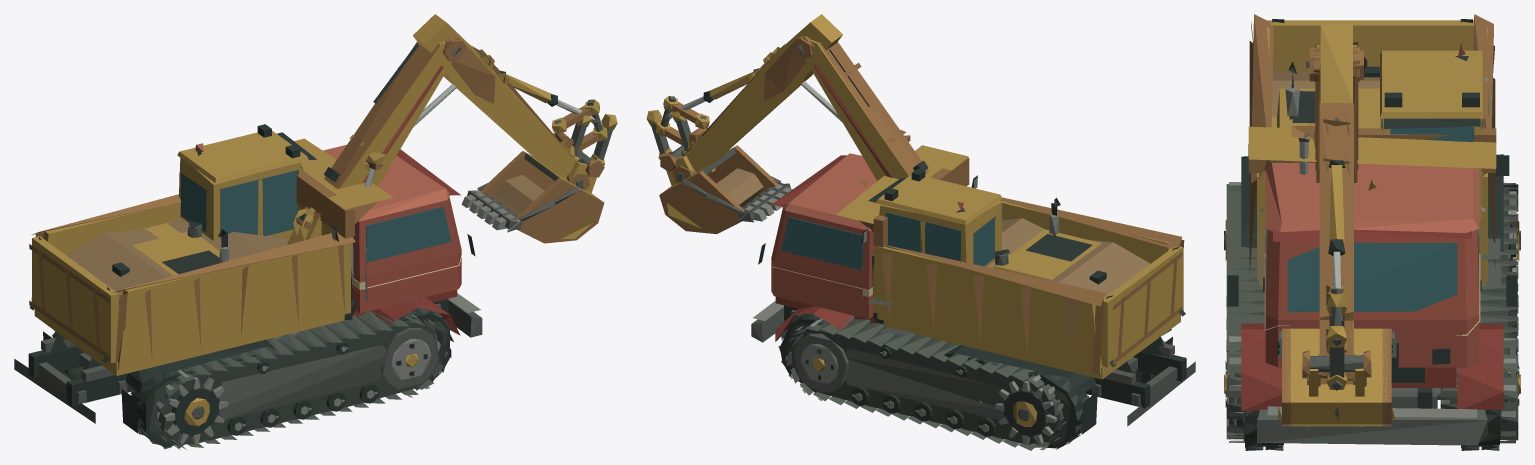
Rendered from riverside-earthworks-kit-low.glb.
3 views of the same model, side by side, from view 1: azimuth 30°, elevation 25°; view 2: azimuth 150°, elevation 25°; view 3: azimuth 270°, elevation 25° (orthographic). The views are drawn at different scales.
Parts seen in each view (by area): view 1: GEO-dumptruck-bed, GEO-dumptruck-chassis-cab, GEO-excavator-upperworks, GEO-excavator-track-R-belt, GEO-excavator-boom, GEO-excavator-bucket, GEO-excavator-stick, GEO-dumptruck-tailgate, GEO-excavator-undercarriage, GEO-dumptruck-payload, GEO-excavator-track-R-wheel-0, GEO-excavator-track-R-wheel-8 (+6 smaller); view 2: GEO-dumptruck-bed, GEO-dumptruck-chassis-cab, GEO-excavator-upperworks, GEO-excavator-track-L-belt, GEO-excavator-boom, GEO-excavator-bucket, GEO-excavator-stick, GEO-dumptruck-tailgate, GEO-excavator-undercarriage, GEO-dumptruck-payload, GEO-excavator-track-L-wheel-0, GEO-excavator-track-L-wheel-8 (+6 smaller); view 3: GEO-dumptruck-chassis-cab, GEO-dumptruck-bed, GEO-excavator-upperworks, GEO-excavator-stick, GEO-excavator-bucket, GEO-dumptruck-tailgate, GEO-excavator-track-R-belt, GEO-excavator-track-L-belt, GEO-excavator-boom, GEO-cylinder-bucket-barrel, GEO-bucket-link, GEO-dumptruck-payload (+6 smaller).
Part boxes in pixels (x1=…): GEO-dumptruck-bed: x1=31, y1=138, x2=393, y2=375; GEO-dumptruck-chassis-cab: x1=14, y1=144, x2=482, y2=433; GEO-excavator-upperworks: x1=112, y1=124, x2=355, y2=318; GEO-excavator-track-R-belt: x1=155, y1=311, x2=447, y2=450; GEO-excavator-boom: x1=287, y1=38, x2=466, y2=244; GEO-excavator-bucket: x1=461, y1=150, x2=604, y2=243; GEO-excavator-stick: x1=413, y1=14, x2=576, y2=179; GEO-dumptruck-tailgate: x1=29, y1=236, x2=118, y2=363; GEO-excavator-undercarriage: x1=218, y1=331, x2=386, y2=419; GEO-dumptruck-payload: x1=66, y1=217, x2=288, y2=303; GEO-excavator-track-R-wheel-0: x1=381, y1=328, x2=438, y2=389; GEO-excavator-track-R-wheel-8: x1=163, y1=377, x2=228, y2=444; GEO-dumptruck-bed: x1=836, y1=145, x2=1184, y2=379; GEO-dumptruck-chassis-cab: x1=751, y1=153, x2=1195, y2=434; GEO-excavator-upperworks: x1=860, y1=168, x2=1106, y2=335; GEO-excavator-track-L-belt: x1=785, y1=315, x2=1065, y2=450; GEO-excavator-boom: x1=792, y1=36, x2=928, y2=180; GEO-excavator-bucket: x1=659, y1=145, x2=792, y2=234; GEO-excavator-stick: x1=683, y1=14, x2=842, y2=171; GEO-dumptruck-tailgate: x1=1100, y1=246, x2=1185, y2=367; GEO-excavator-undercarriage: x1=845, y1=341, x2=1004, y2=420; GEO-dumptruck-payload: x1=986, y1=218, x2=1150, y2=297; GEO-excavator-track-L-wheel-0: x1=793, y1=333, x2=848, y2=392; GEO-excavator-track-L-wheel-8: x1=995, y1=380, x2=1057, y2=445; GEO-dumptruck-chassis-cab: x1=1227, y1=154, x2=1517, y2=445; GEO-dumptruck-bed: x1=1248, y1=14, x2=1496, y2=286; GEO-excavator-upperworks: x1=1248, y1=43, x2=1509, y2=291; GEO-excavator-stick: x1=1313, y1=24, x2=1359, y2=384; GEO-excavator-bucket: x1=1277, y1=328, x2=1396, y2=427; GEO-dumptruck-tailgate: x1=1267, y1=19, x2=1473, y2=71; GEO-excavator-track-R-belt: x1=1226, y1=182, x2=1264, y2=442; GEO-excavator-track-L-belt: x1=1440, y1=182, x2=1518, y2=443; GEO-excavator-boom: x1=1291, y1=42, x2=1367, y2=182; GEO-cylinder-bucket-barrel: x1=1328, y1=160, x2=1345, y2=255; GEO-bucket-link: x1=1326, y1=306, x2=1347, y2=390; GEO-dumptruck-payload: x1=1272, y1=71, x2=1379, y2=116.
Bounding box in the file's own units: 8.36 × 4.84 × 2.83.
